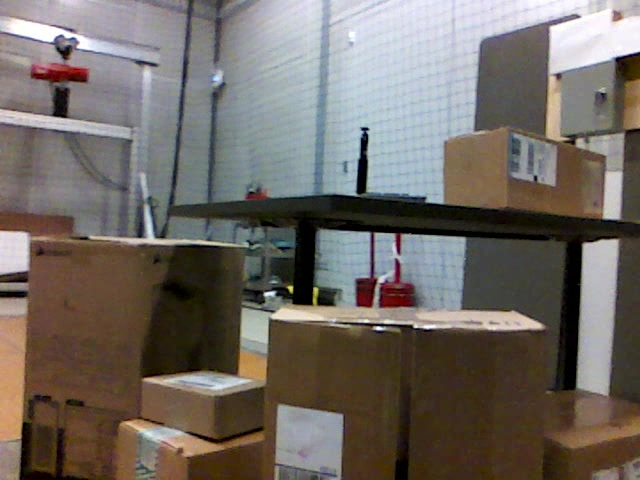box: (28, 233, 244, 480), (265, 305, 545, 480), (444, 127, 605, 218), (543, 384, 640, 480), (143, 368, 263, 441), (118, 420, 261, 480)
